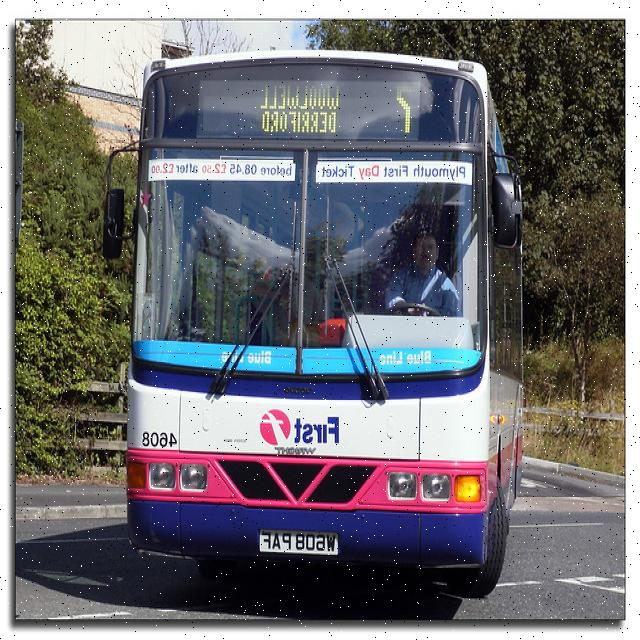Bus: (108, 50, 519, 581), (387, 226, 459, 316)
